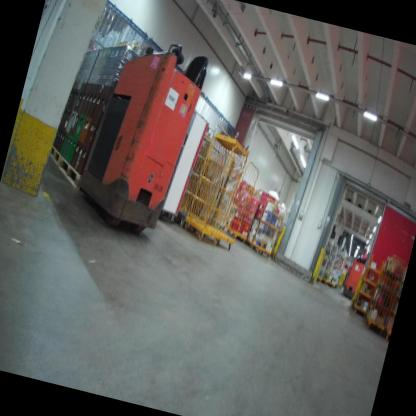pallet: (52, 155, 89, 189), (44, 143, 65, 170)
pallet_truck: (69, 22, 221, 246), (339, 247, 373, 306)
